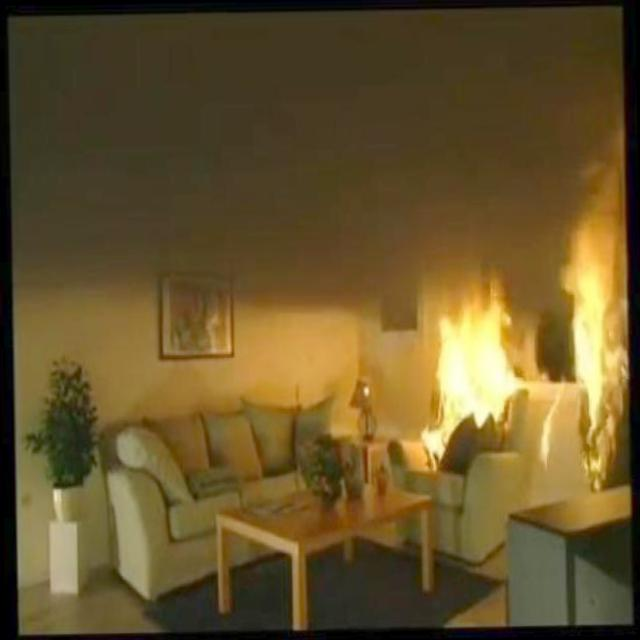Fire_Dangerous: (560, 153, 640, 494), (422, 294, 512, 463)
